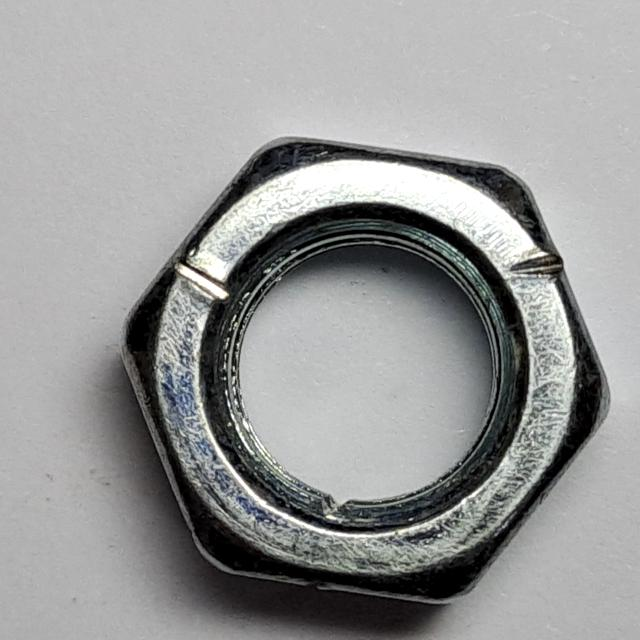Scratches: (114, 124, 623, 618)
